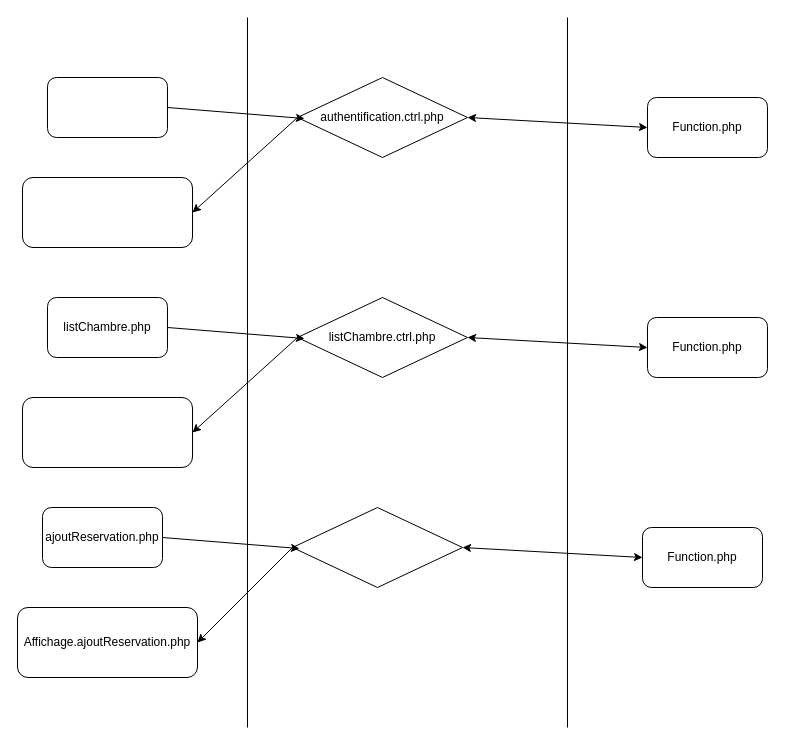
The diagram is 785 pixels wide and 746 high, and some of its shapes have lost their labels. Here are the shapes that lost their labels. From the top down, the centre of each, then its label:
pixel 107 107: index.php
pixel 107 212: Affichage.Authentification.php
pixel 107 432: Affichage.listeChambre.php
pixel 377 547: ajoutReservation.ctrl.php
